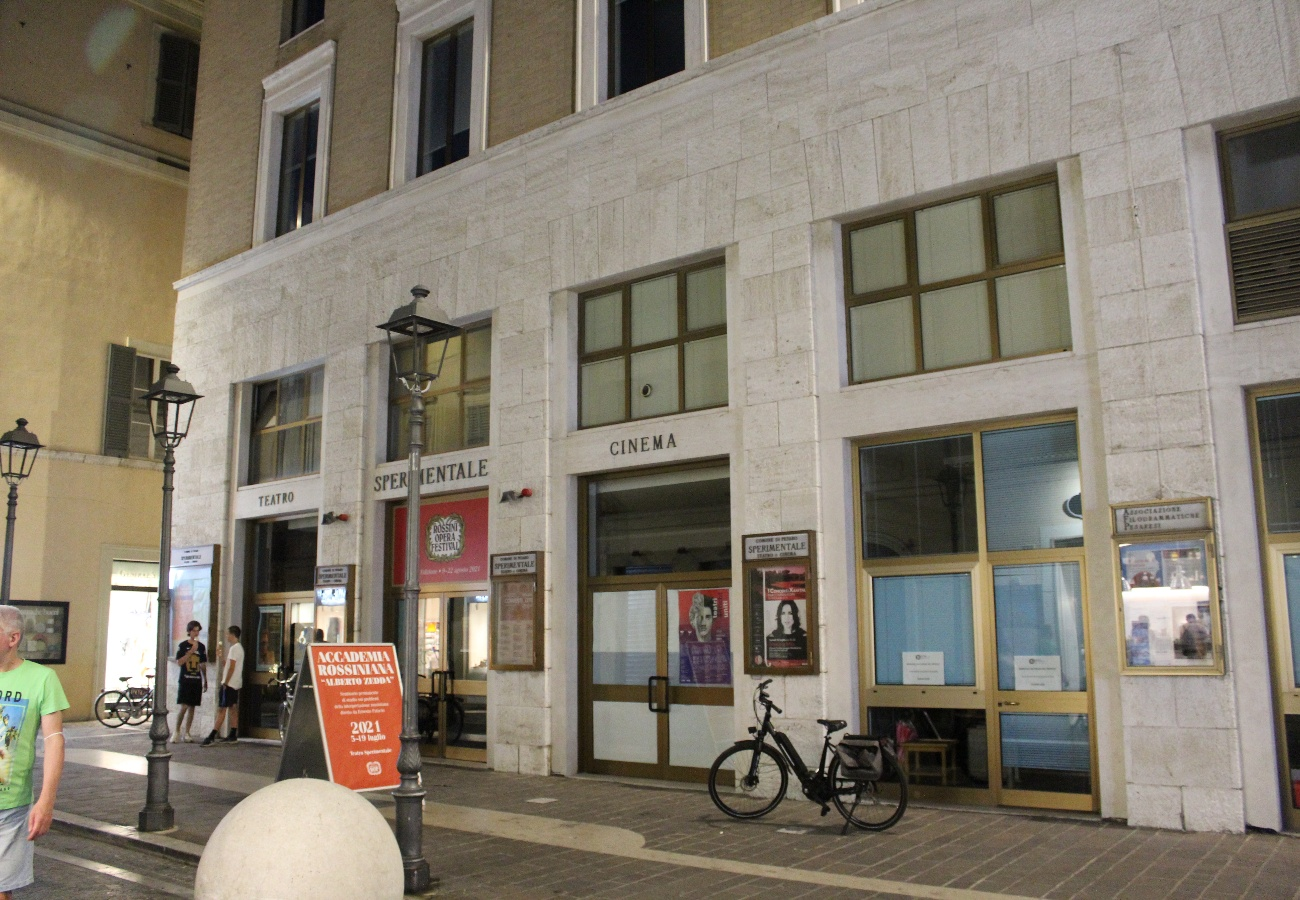Teatro Sperimentale: (170, 1, 1300, 809)
